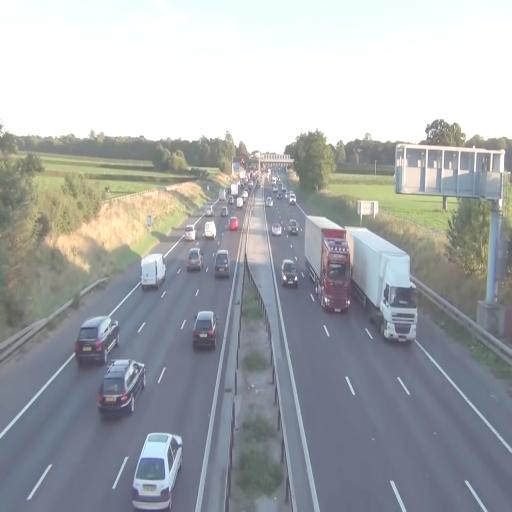vehicle: (344, 226, 418, 343), (344, 226, 418, 342), (304, 212, 352, 314), (132, 432, 183, 508), (97, 357, 147, 418), (74, 314, 120, 366), (192, 310, 218, 352), (140, 253, 166, 295), (140, 254, 166, 294), (280, 258, 299, 288), (213, 249, 231, 279), (186, 246, 203, 274), (228, 215, 240, 232), (271, 221, 283, 236), (288, 219, 298, 236)
